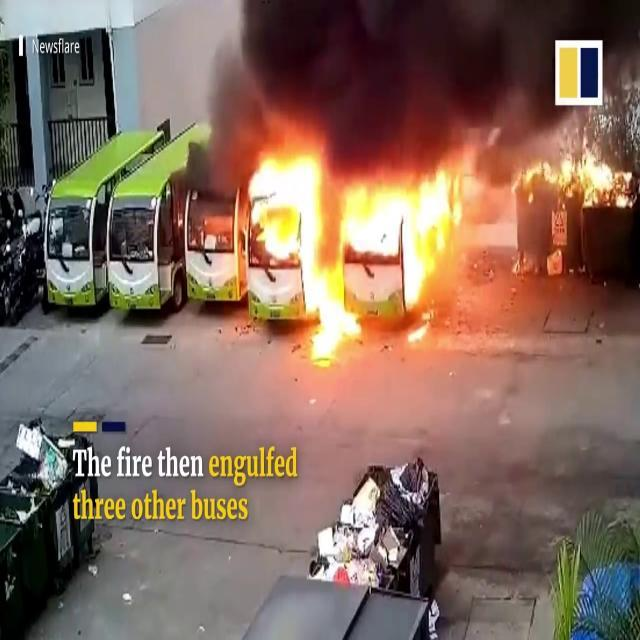Fire: (243, 136, 463, 344), (522, 138, 636, 215)
Smoke: (204, 0, 532, 164)
